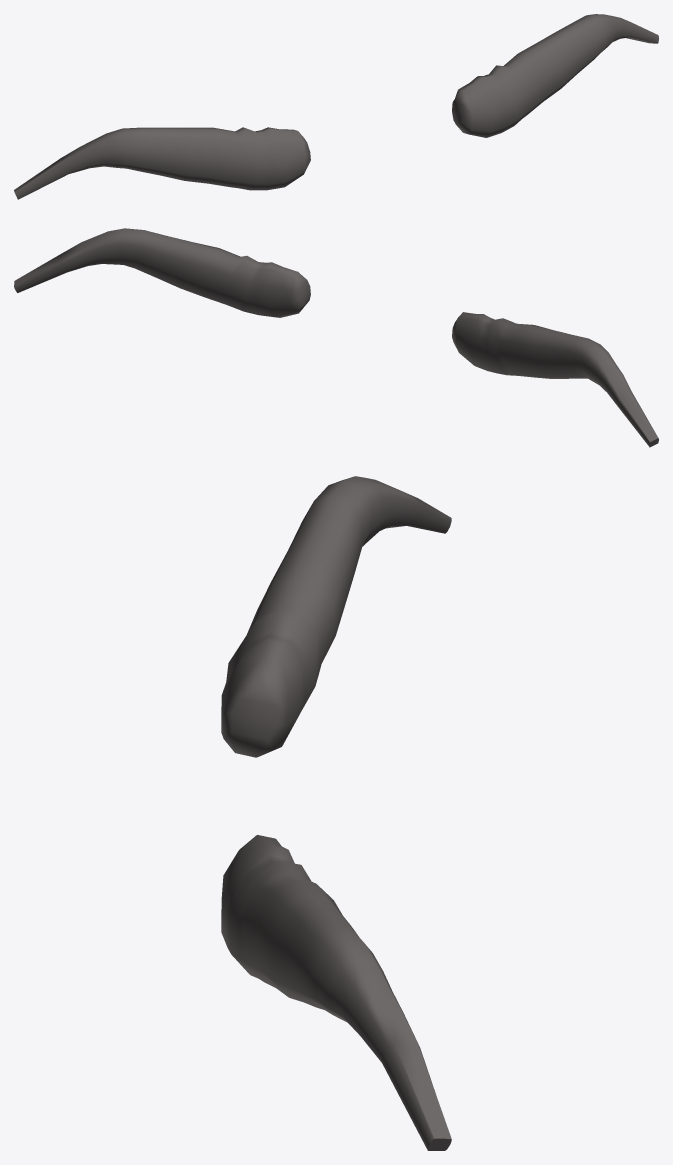
Rendered from Eyebrows_09_04.fbx.
3 views of the same model, one above another, from view 1: azimuth 30°, elevation 25°; view 2: azimuth 150°, elevation 25°; view 3: azimuth 270°, elevation 25° (orthographic). The views are drawn at different scales.
Visible parts, largest first — view 1: Eyebrows_09_04; view 2: Eyebrows_09_04; view 3: Eyebrows_09_04.
Part boxes in pixels (bbox=[...]): Eyebrows_09_04: bbox=[14, 14, 658, 199]; Eyebrows_09_04: bbox=[14, 228, 658, 447]; Eyebrows_09_04: bbox=[221, 476, 451, 1150].
Bounding box in the file's own units: 19.2 × 2.07 × 2.98.
